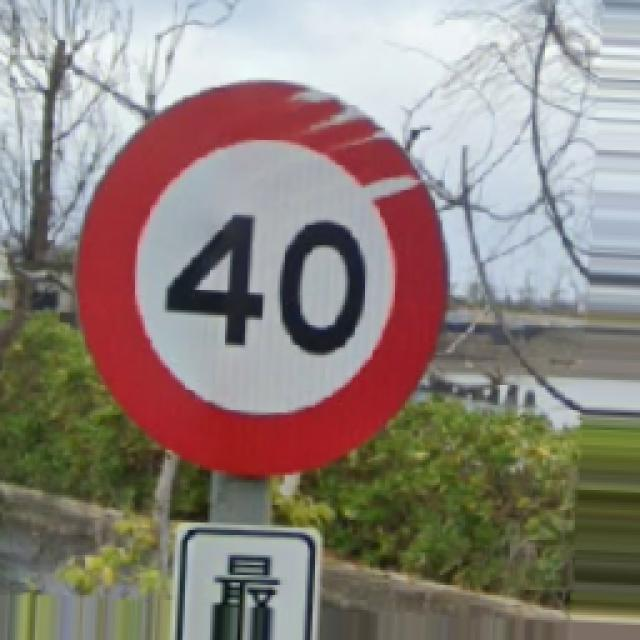Speed Limit -40-: (80, 82, 445, 473)
